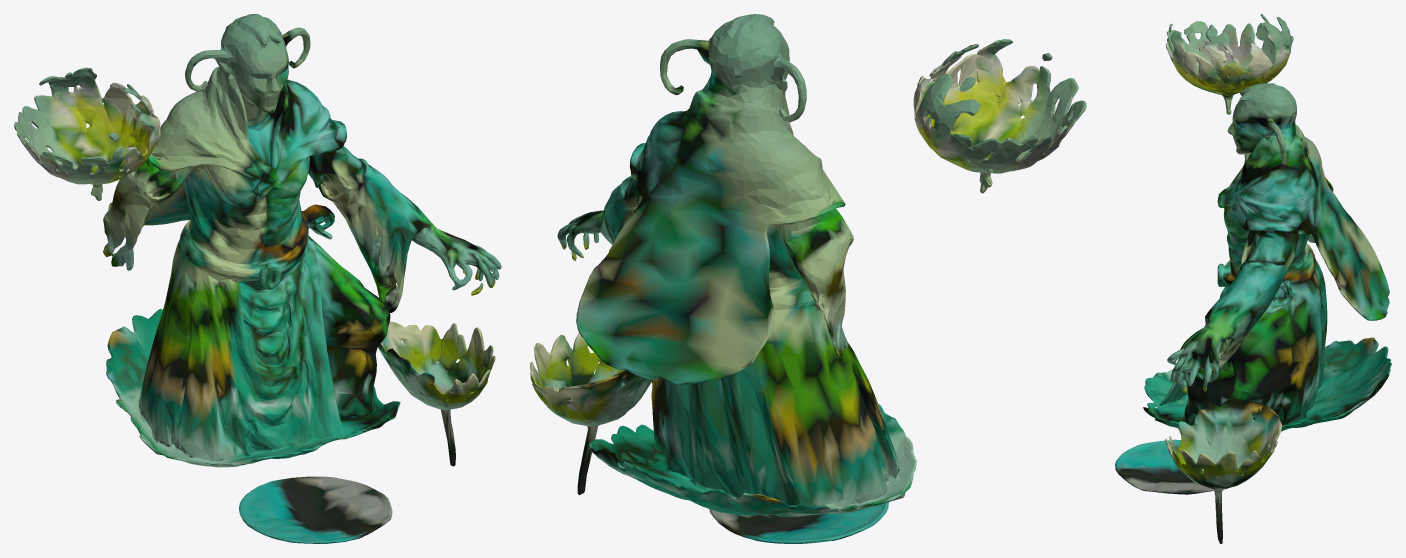
The model's file is giant.glb.
The picture shows the model from 3 angles, left to right: view 1: azimuth 30°, elevation 25°; view 2: azimuth 150°, elevation 25°; view 3: azimuth 270°, elevation 25°; orthographic projection. The views are drawn at different scales.
Parts seen in each view (by area): view 1: world; view 2: world; view 3: world.
Boxes of the visible parts, x1,y1,x2,y2 form: world: [14, 14, 501, 543]; world: [530, 14, 1086, 543]; world: [1115, 14, 1391, 543].
Size of the model in its own units: 0.9995 by 1 by 0.6374.
